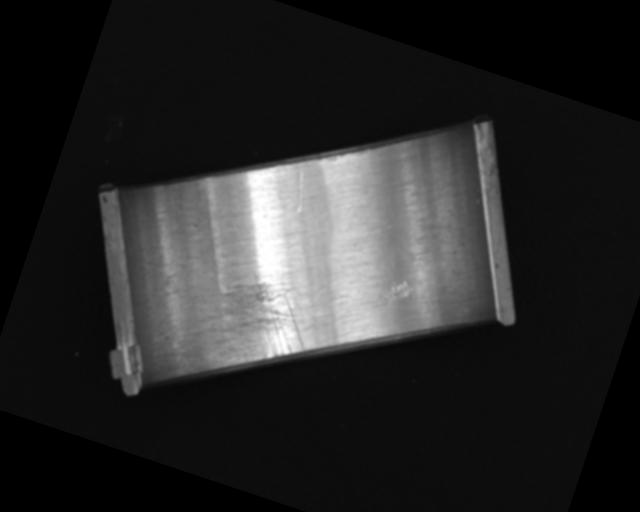bruise: (376, 273, 415, 308)
nick: (288, 167, 314, 213)
scratch: (186, 260, 324, 406)
